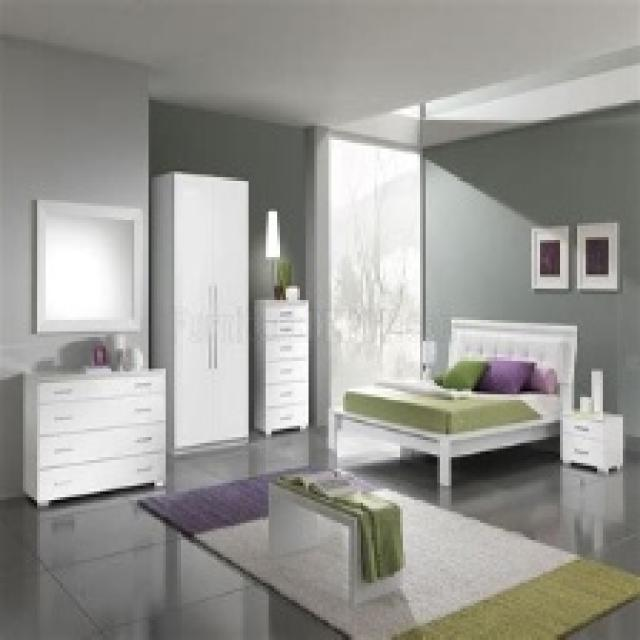Bed: (326, 314, 577, 486)
